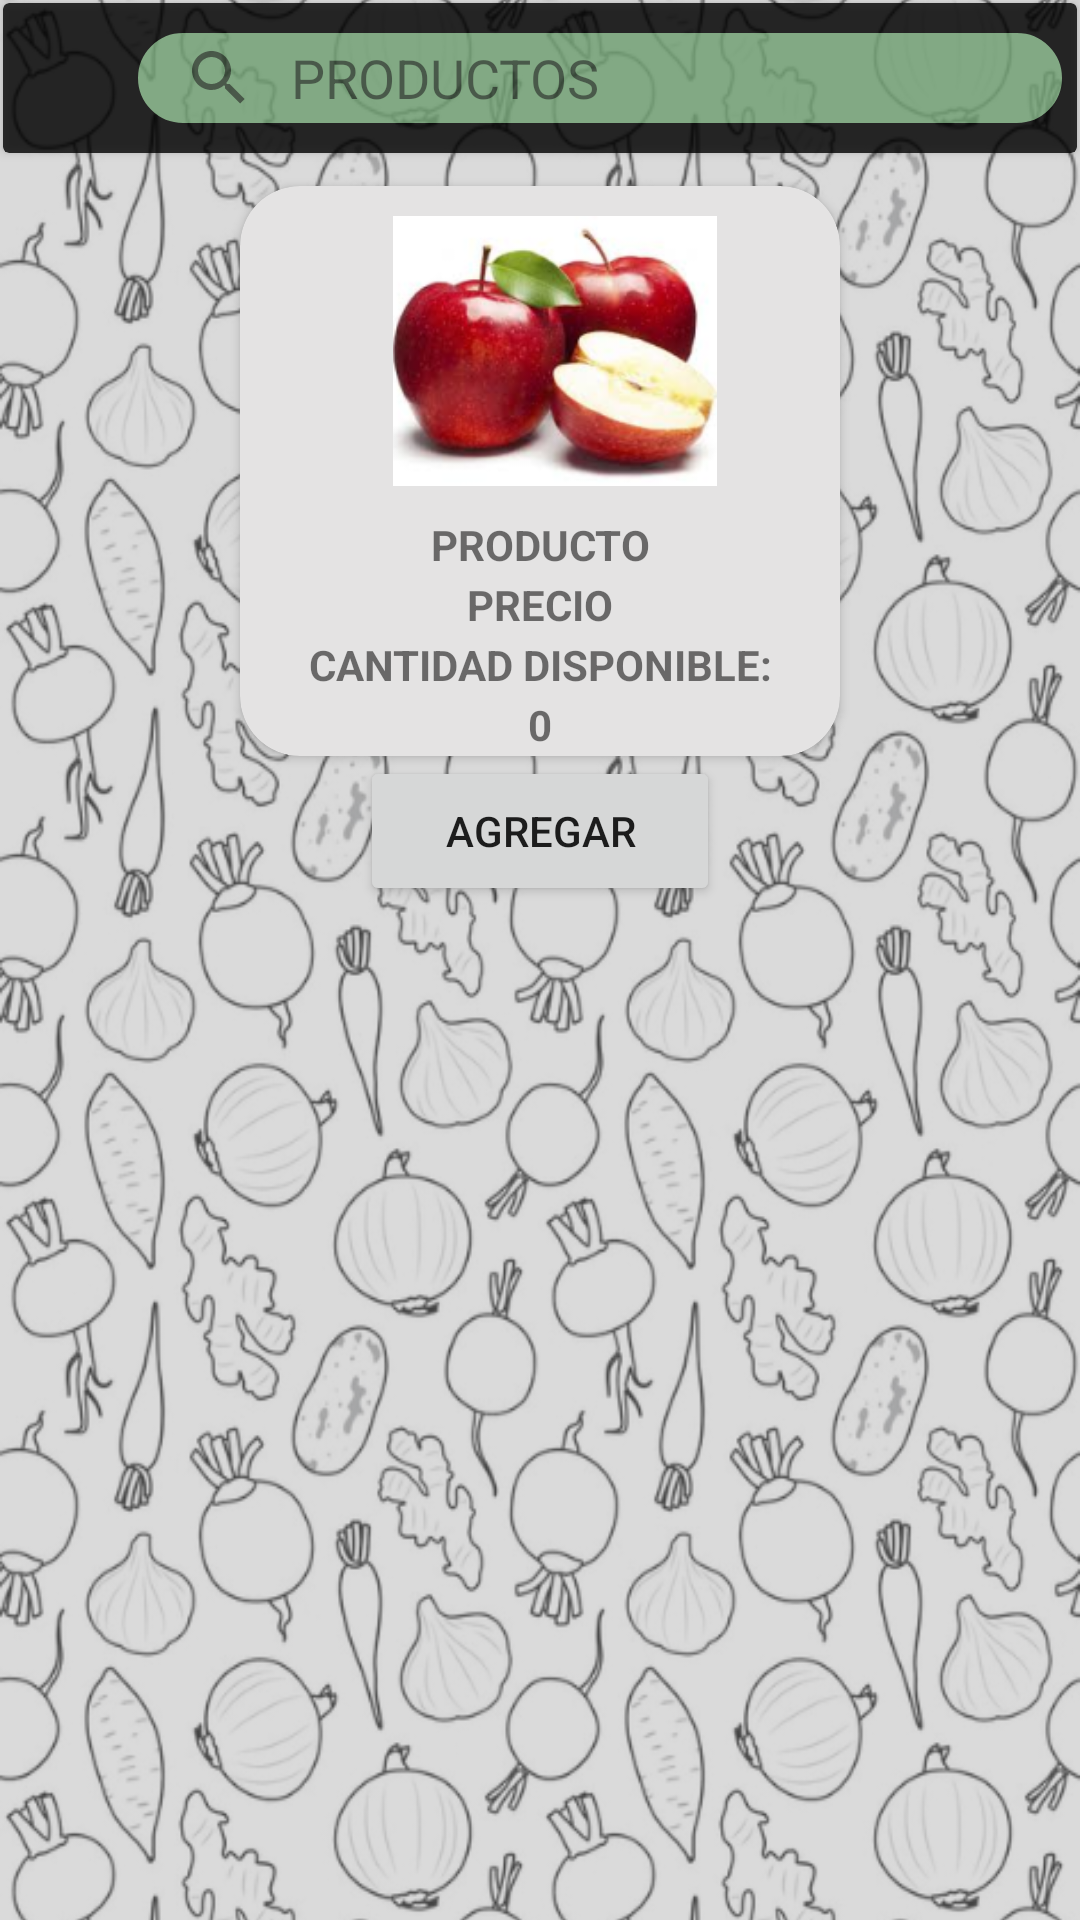

Where icons sit on this 1080w x 1920h app screen, as [x1=x1, y1=y1, x2=x2, y2=y2]:
manzanas: [x1=393, y1=216, x2=717, y2=486]
